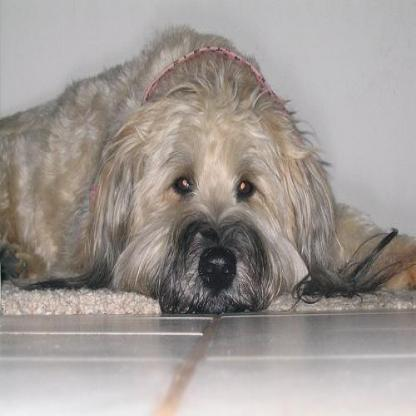briard: (0, 23, 414, 315)
